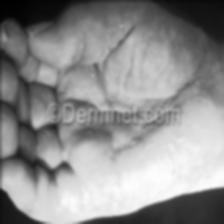Unclassified: (94, 31, 116, 60), (162, 138, 184, 166), (138, 138, 154, 162)
